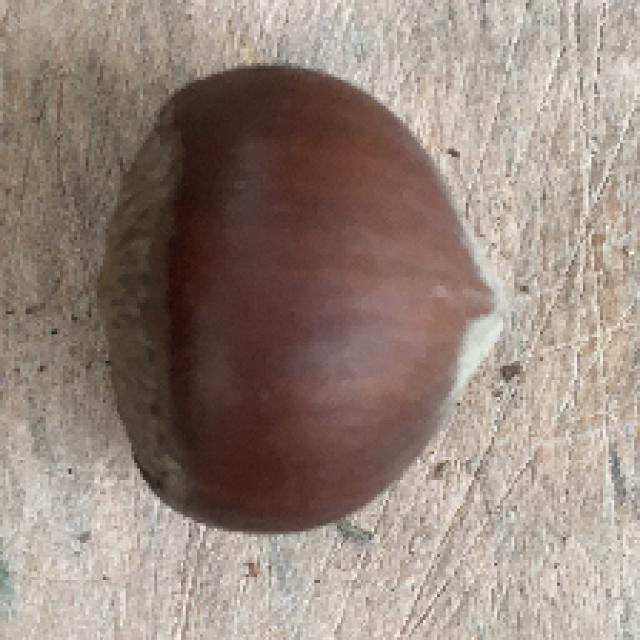damagedHazelnut: (103, 66, 514, 547)
